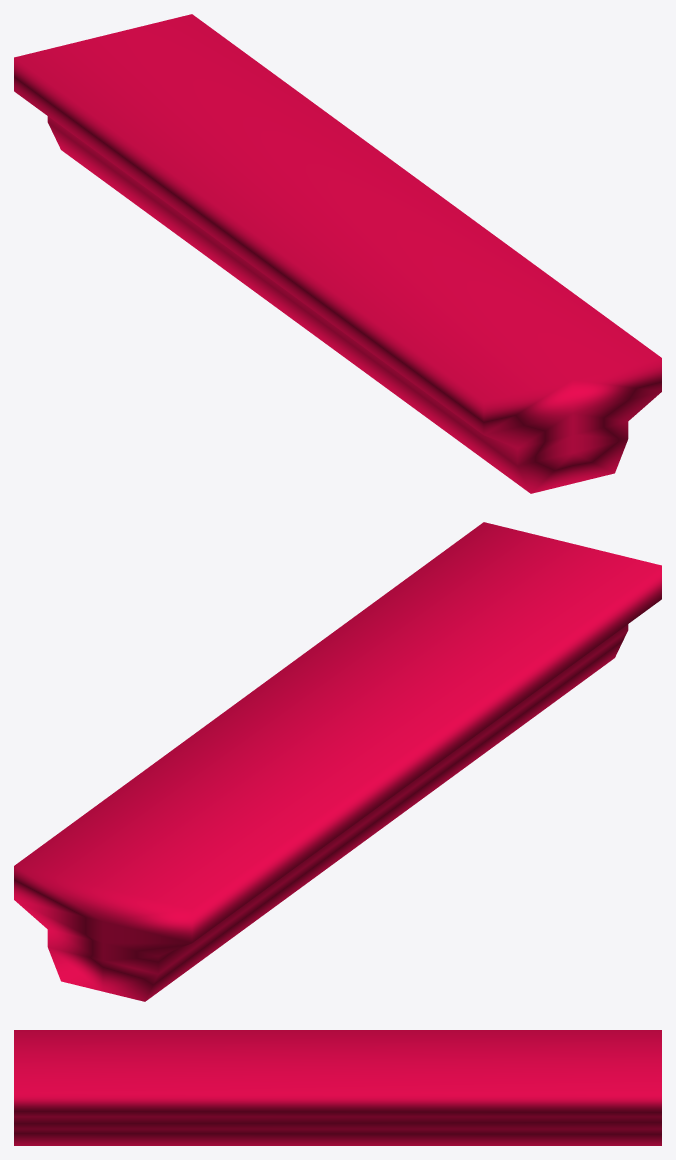
File: Gate_05_C.fbx
3 renders of one model, top to bottom at view 1: azimuth 30°, elevation 25°; view 2: azimuth 150°, elevation 25°; view 3: azimuth 270°, elevation 25°, orthographic. The views are drawn at different scales.
Parts seen in each view (by area): view 1: Gate_05_C; view 2: Gate_05_C; view 3: Gate_05_C.
Boxes of the visible parts, x1,y1,x2,y2 form: Gate_05_C: [14, 14, 661, 493]; Gate_05_C: [14, 522, 661, 1001]; Gate_05_C: [14, 1030, 661, 1145].
Size of the model in its own units: 65.65 by 36.61 by 300.
